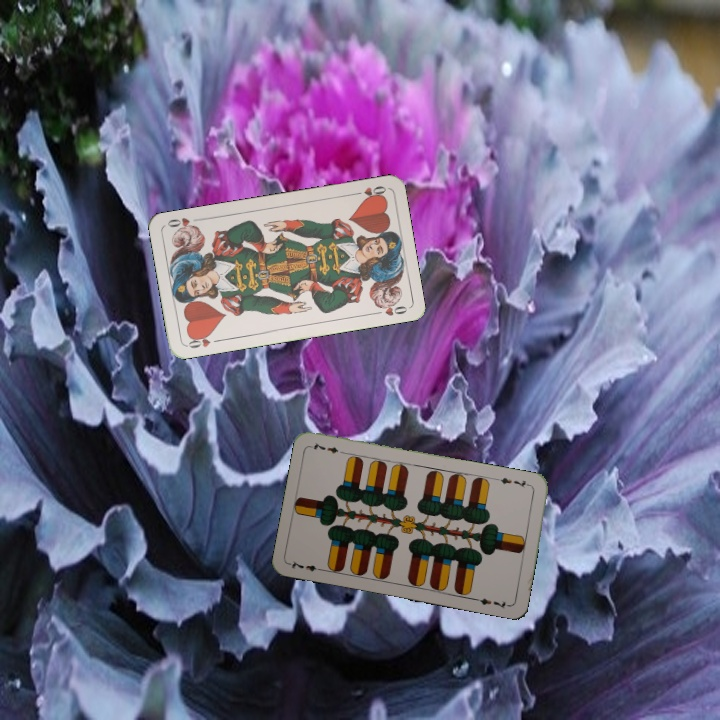E7: (494, 473, 534, 490), (286, 557, 326, 574)
HO: (183, 330, 223, 351), (349, 182, 389, 202)
